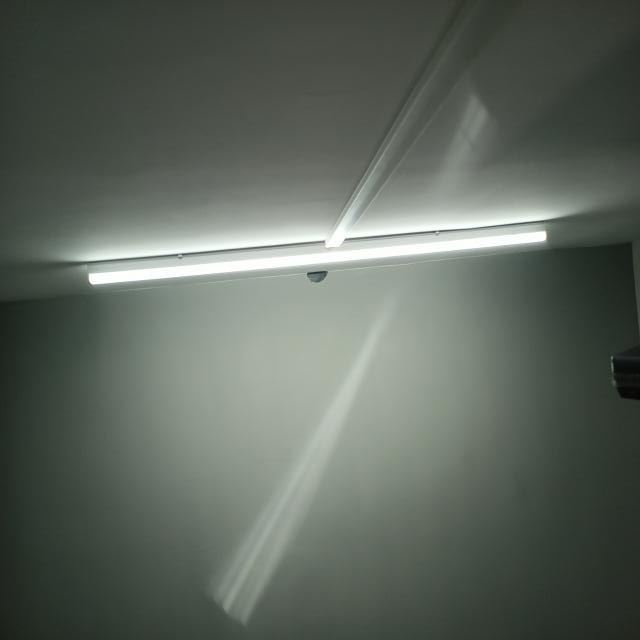fluorescent tube: (83, 215, 556, 301)
